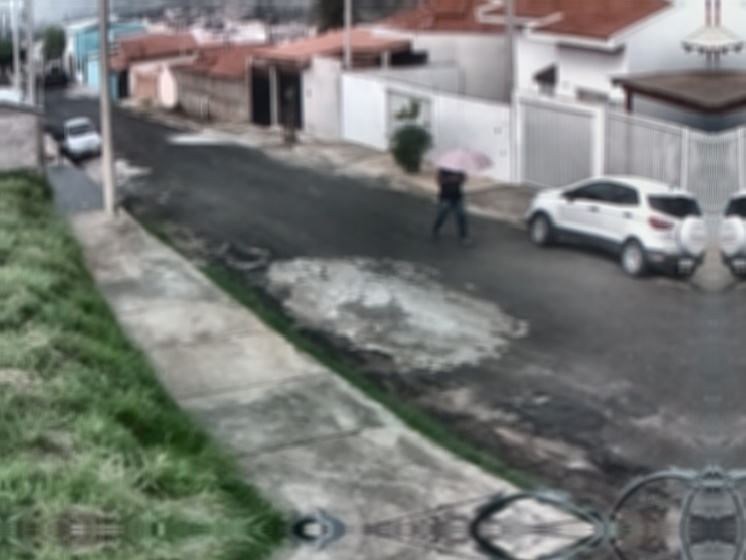person: (429, 164, 474, 251)
